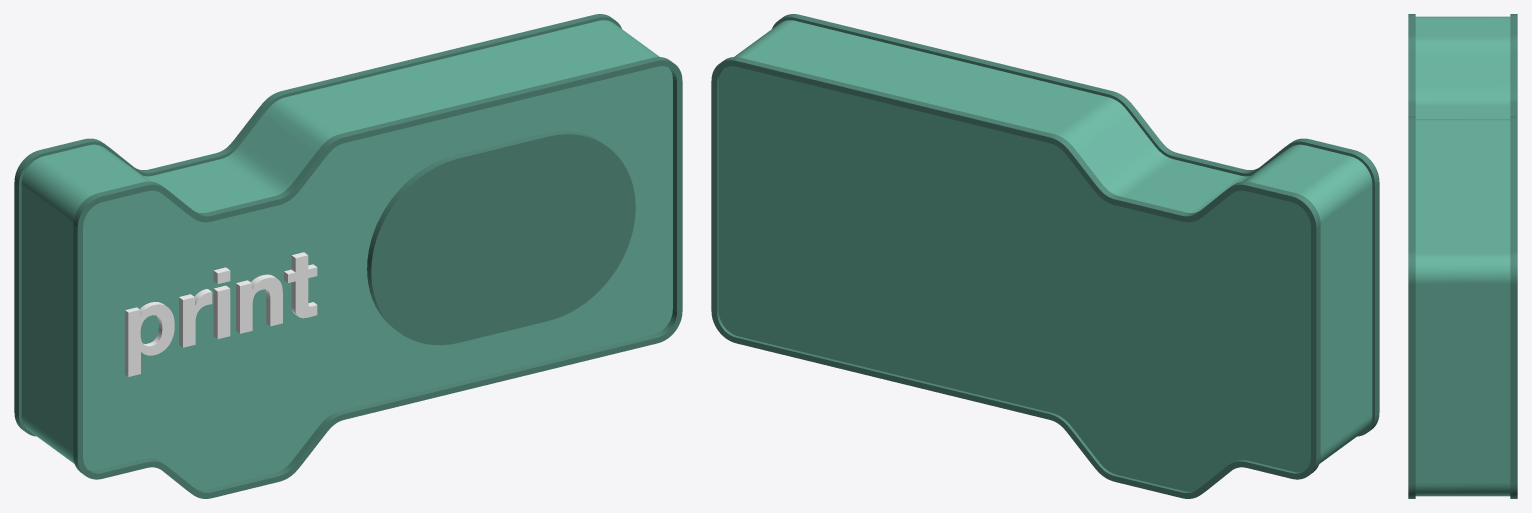
Rendered from text_print.gltf.
3 renders of one model, left to right at view 1: azimuth 30°, elevation 25°; view 2: azimuth 150°, elevation 25°; view 3: azimuth 270°, elevation 25°, orthographic. The views are drawn at different scales.
Parts seen in each view (by area): view 1: Extrude.7, Extrude, Extrude.6, Extrude.8, Extrude.5, Extrude.2, Extrude.1, Extrude.3, Extrude.4; view 2: Extrude.7, Extrude.8, Extrude.6; view 3: Extrude.7, Extrude.6, Extrude.8.
Boxes of the visible parts, box(x1,y1,x2,y2) form: Extrude.7: box(21, 20, 672, 489); Extrude: box(367, 131, 635, 345); Extrude.6: box(73, 57, 682, 498); Extrude.8: box(14, 14, 621, 436); Extrude.5: box(125, 302, 174, 376); Extrude.2: box(236, 274, 282, 333); Extrude.1: box(284, 252, 317, 318); Extrude.3: box(213, 267, 230, 338); Extrude.4: box(179, 289, 212, 347); Extrude.7: box(719, 20, 1372, 491); Extrude.8: box(711, 57, 1320, 498); Extrude.6: box(772, 14, 1379, 436); Extrude.7: box(1415, 16, 1510, 496); Extrude.6: box(1408, 14, 1415, 498); Extrude.8: box(1510, 14, 1517, 498).
Size of the model in its own units: 0.3975 by 0.2064 by 0.0719.
